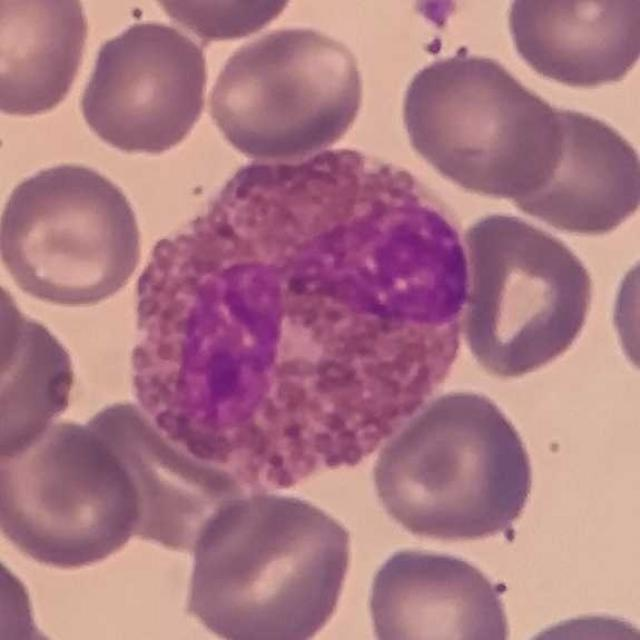Eosinophil: (109, 123, 492, 510)
Platelets: (408, 0, 462, 31)
RBC: (77, 395, 255, 560), (366, 385, 539, 547), (178, 485, 358, 640), (395, 46, 570, 200), (454, 208, 600, 382), (202, 22, 368, 162), (0, 414, 148, 571), (0, 156, 147, 309), (496, 100, 640, 238), (76, 17, 212, 157), (360, 540, 518, 640), (0, 304, 83, 462), (502, 0, 639, 91), (0, 0, 93, 120), (142, 0, 300, 41), (604, 237, 640, 391), (502, 603, 639, 640), (0, 256, 27, 401), (0, 564, 47, 640)
